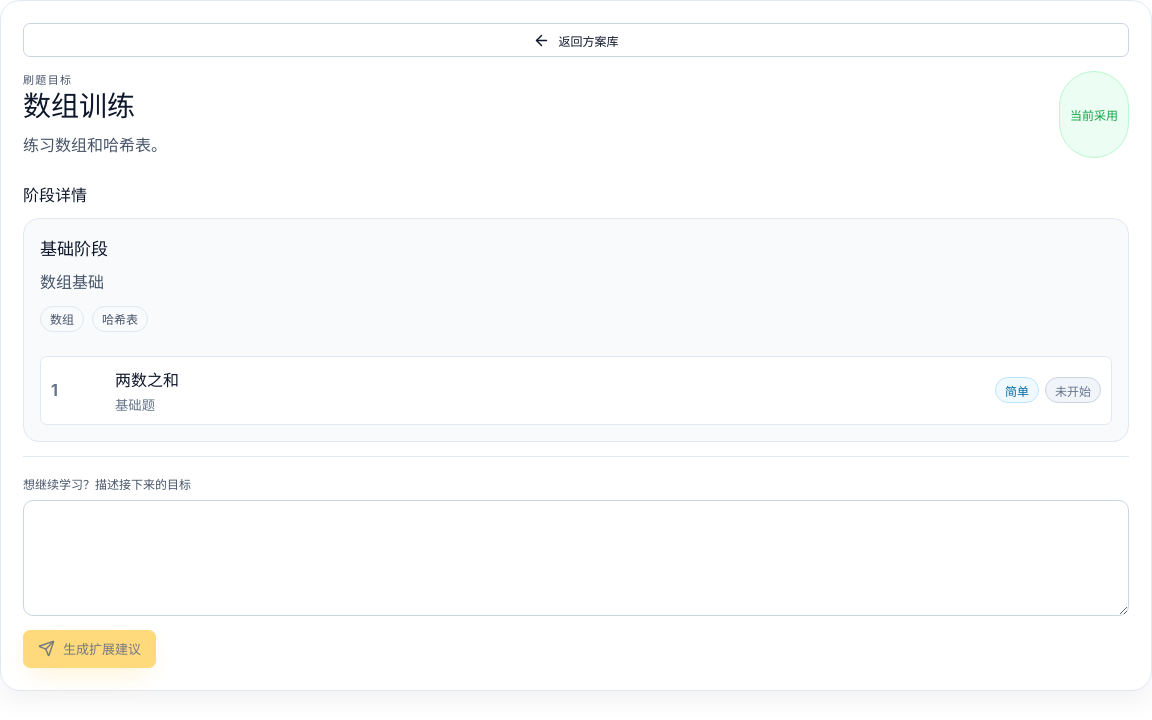
Test case: LearningPlanDetail extension orchestration › shows a dialog when extension generation reports exhausted agent capacity
The image size is (1152, 720).
Type "继续练图论" into the text box labelled "想继续学习？描述接下来的目标" at (576, 558), box [23,500,1129,616]
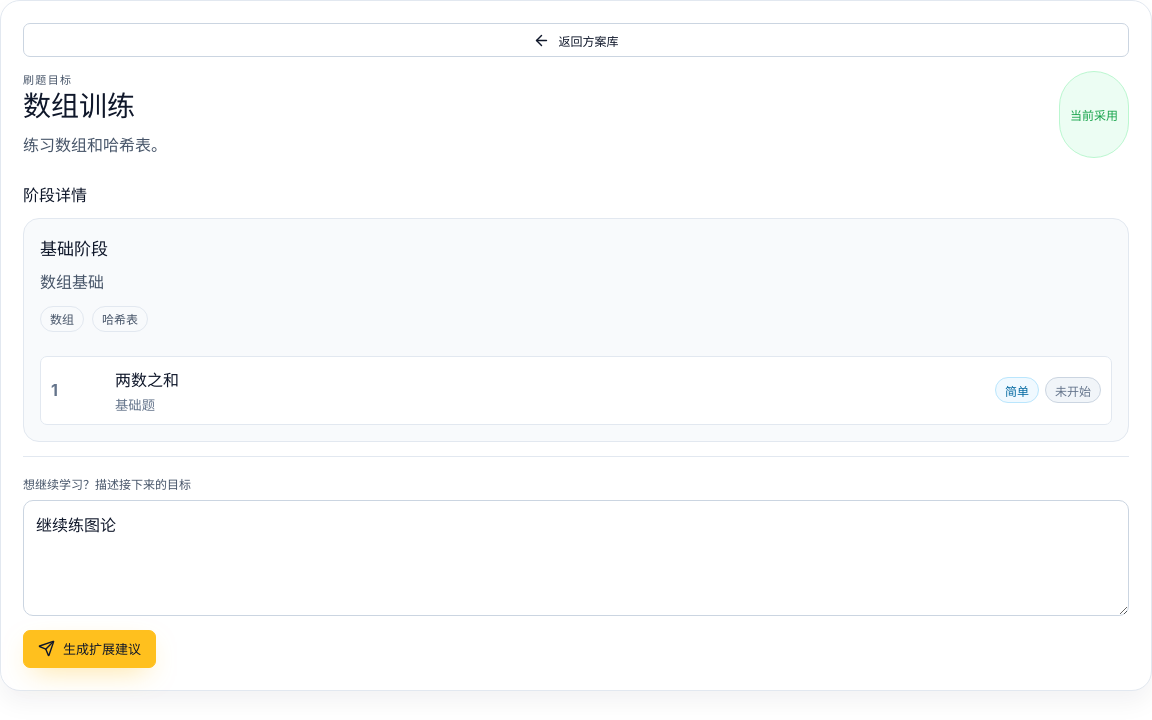
Click the button "生成扩展建议" at (90, 649), box [23,630,156,668]
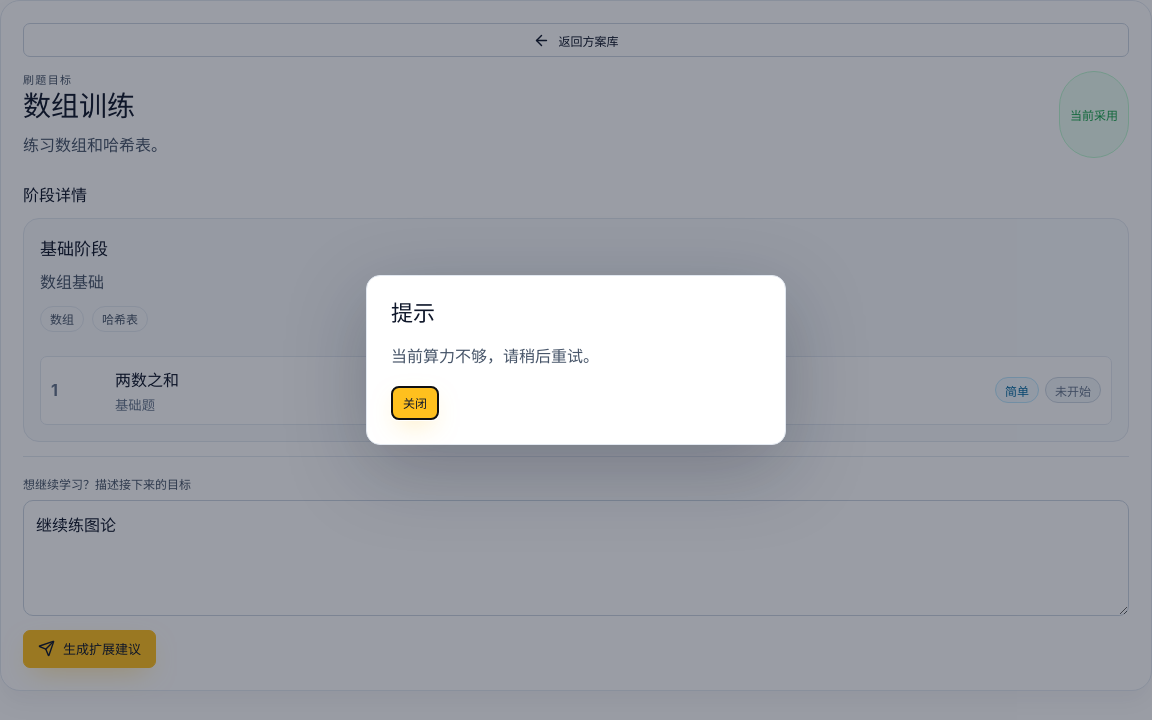
Expected: the dialog "提示" shows "当前算力不够，请稍后重试。", [391,346,599,366]
